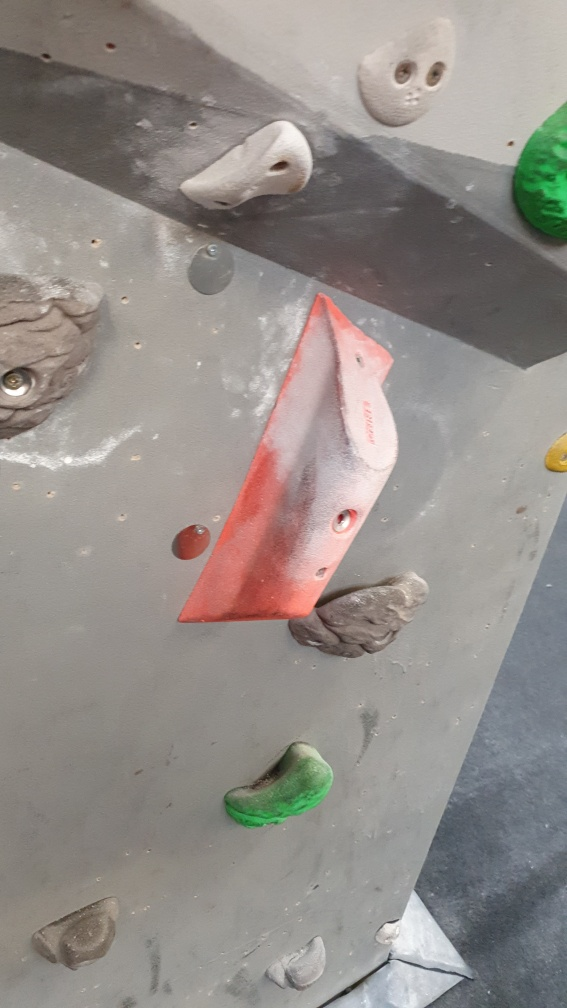Hand Start: (186, 243, 244, 301), (167, 520, 217, 563)
Jug: (289, 566, 430, 662), (218, 735, 340, 834), (266, 930, 330, 996)
Pinch: (177, 293, 406, 632)
